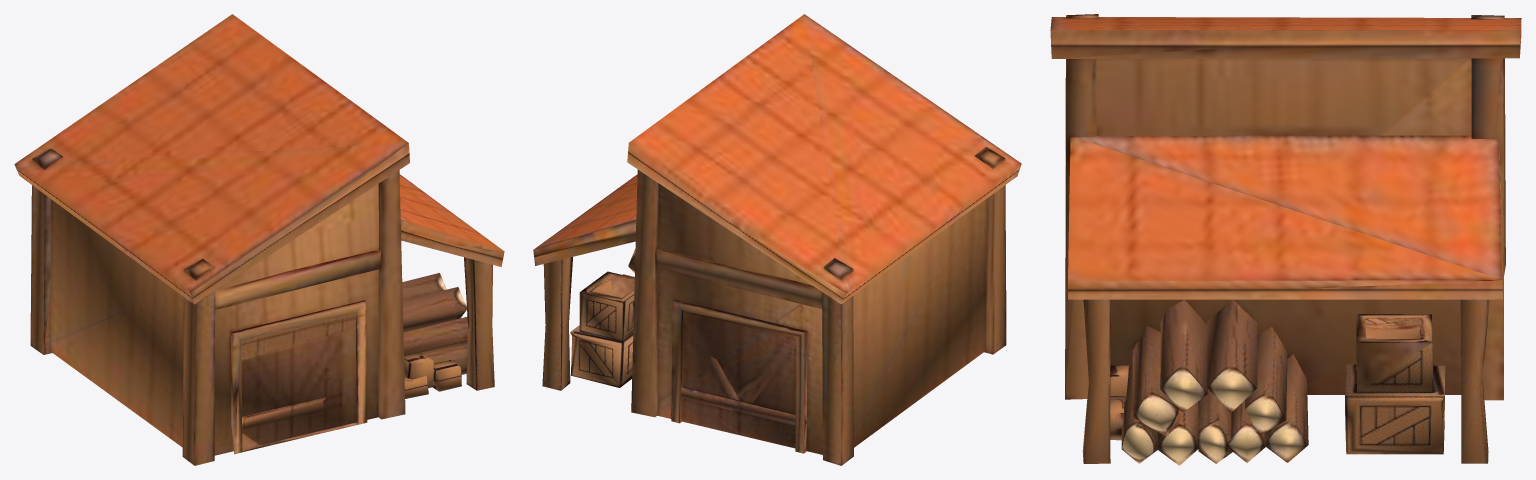
The model's file is supply22.2.glb.
3 renders of one model, left to right at view 1: azimuth 30°, elevation 25°; view 2: azimuth 150°, elevation 25°; view 3: azimuth 270°, elevation 25°, orthographic. The views are drawn at different scales.
Visible parts, largest first — view 1: supply22; view 2: supply22; view 3: supply22.
Boxes of the visible parts, left/top/right/bottom form: supply22: left=14, top=14, right=504, bottom=465; supply22: left=533, top=14, right=1021, bottom=465; supply22: left=1050, top=14, right=1521, bottom=465.
Bounding box in the file's own units: 1.9 × 1.58 × 1.81.
Materials: 1 (1 with a texture image).
